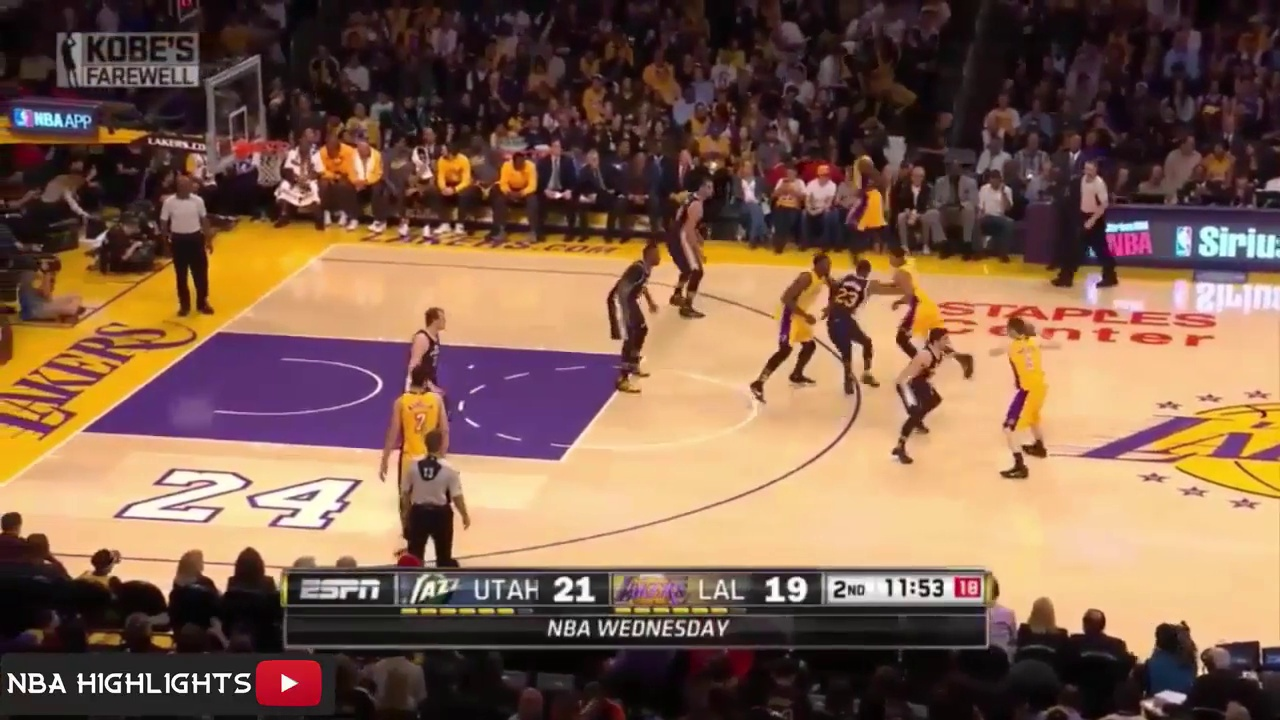jazz: (889, 330, 952, 463), (668, 176, 726, 318), (606, 245, 662, 388), (834, 263, 882, 392), (402, 302, 451, 387)
lakers: (746, 244, 832, 405), (995, 313, 1055, 475), (399, 371, 447, 536), (884, 243, 950, 334), (850, 135, 887, 261)
